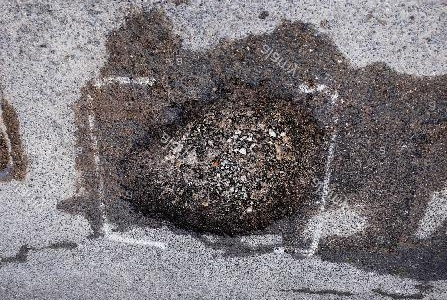pothole: (112, 80, 329, 242)
